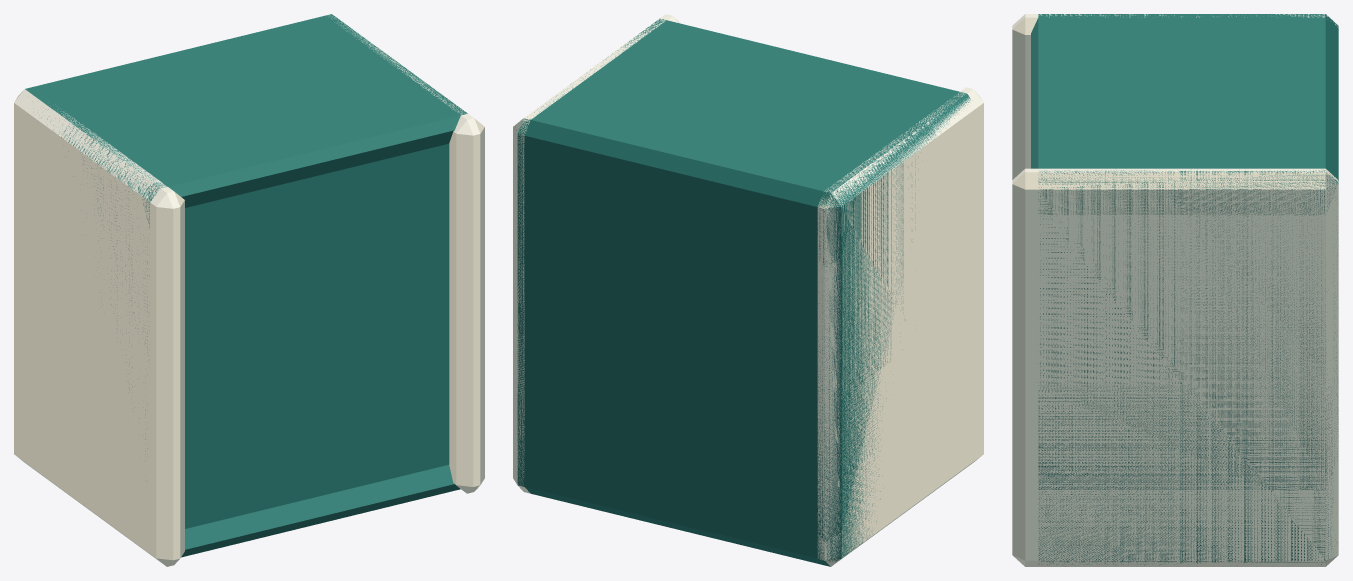
The model's file is LockWall_Tile.gltf.
3 renders of one model, left to right at view 1: azimuth 30°, elevation 25°; view 2: azimuth 150°, elevation 25°; view 3: azimuth 270°, elevation 25°, orthographic. The views are drawn at different scales.
Parts seen in each view (by area): view 1: LockWall_Tile_baked; view 2: LockWall_Tile_baked; view 3: LockWall_Tile_baked.
Boxes of the visible parts, x1,y1,x2,y2 form: LockWall_Tile_baked: [14, 14, 484, 566]; LockWall_Tile_baked: [513, 14, 983, 566]; LockWall_Tile_baked: [1012, 14, 1338, 566].
Size of the model in its own units: 0.92 by 1 by 0.75.
